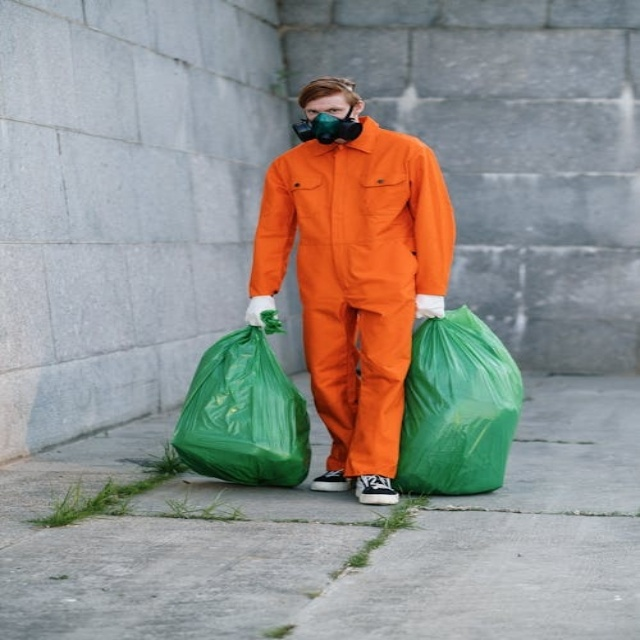Guantes: (245, 295, 280, 332), (414, 294, 446, 320)
Mascara: (292, 107, 361, 145)
Sin_gafas: (305, 103, 352, 116)
